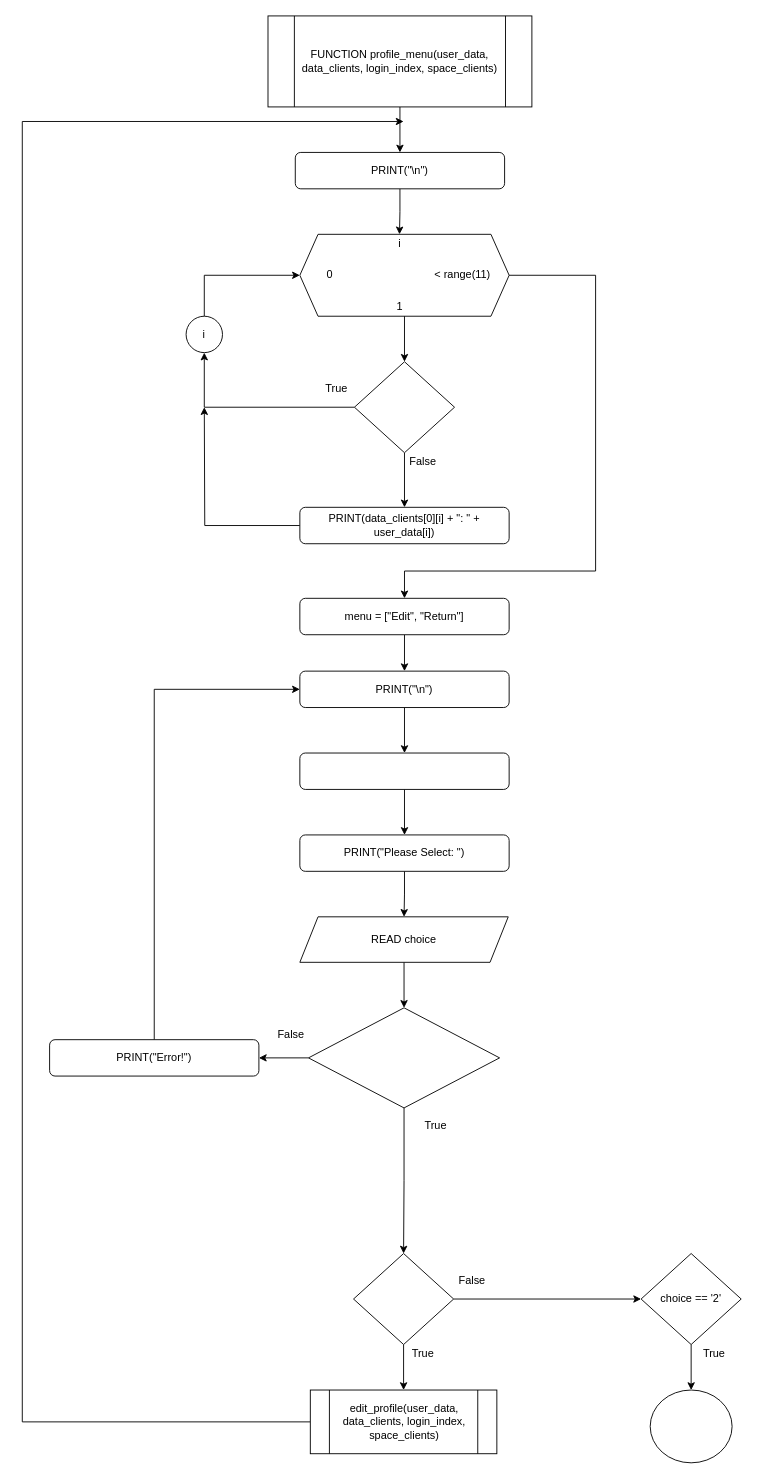
The diagram is 757 pixels wide and 1479 high, and some of its shapes have lost their labels. Each missing label, with the centre of its shape:
choice == '1': (x=403, y=1299)
choice == '1' or choice == '2': (x=404, y=1057)
default.general_menu(menu): (x=404, y=770)
i ==3: (x=404, y=407)
Return: (x=690, y=1426)
